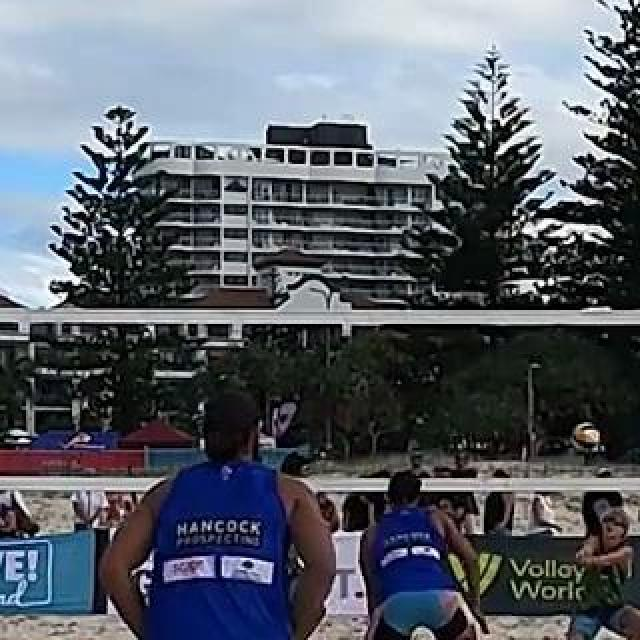volleyball: (575, 422, 601, 446)
